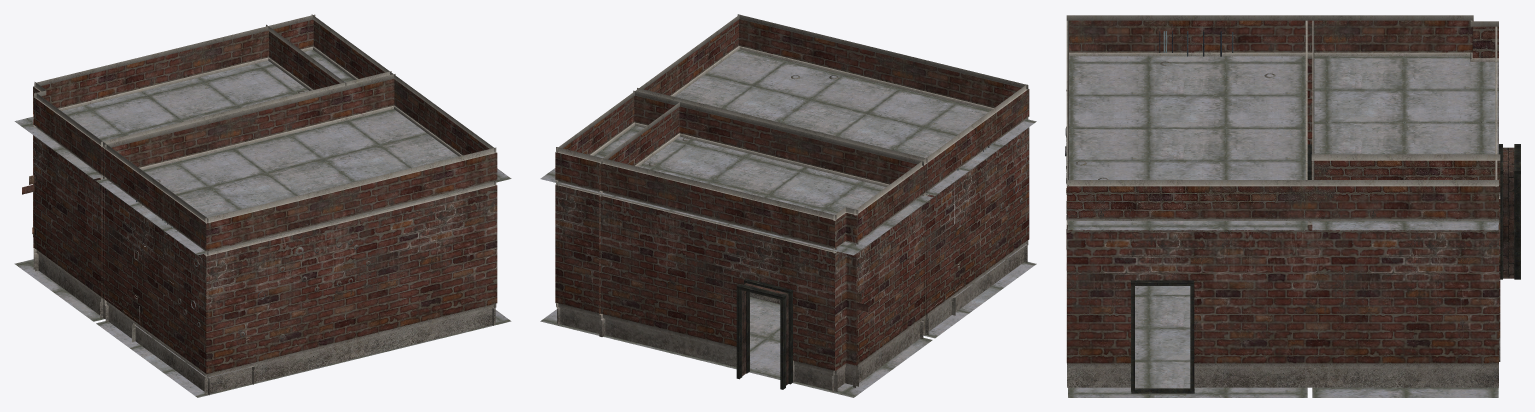
The model's file is st4_212_0_terrain_00ms.fbx.
The picture shows the model from 3 angles, left to right: view 1: azimuth 30°, elevation 25°; view 2: azimuth 150°, elevation 25°; view 3: azimuth 270°, elevation 25°; orthographic projection. The views are drawn at different scales.
Visible parts, largest first — view 1: LOD_1_Group_0_Sub_3__st2_policeHallWall03, LOD_1_Group_0_Sub_5__st2_police1fLeftFloor04, LOD_1_Group_0_Sub_1__st2_police2fRightWall01, LOD_1_Group_0_Sub_4__st2_police1fLeftPipeline01; view 2: LOD_1_Group_0_Sub_3__st2_policeHallWall03, LOD_1_Group_0_Sub_5__st2_police1fLeftFloor04, LOD_1_Group_0_Sub_1__st2_police2fRightWall01, LOD_1_Group_0_Sub_2__st1_townBuild01_Mat; view 3: LOD_1_Group_0_Sub_3__st2_policeHallWall03, LOD_1_Group_0_Sub_5__st2_police1fLeftFloor04, LOD_1_Group_0_Sub_1__st2_police2fRightWall01, LOD_1_Group_0_Sub_2__st1_townBuild01_Mat.
Part boxes in pixels (x1,y1,x2,y2): LOD_1_Group_0_Sub_3__st2_policeHallWall03: (22, 19, 497, 374); LOD_1_Group_0_Sub_5__st2_police1fLeftFloor04: (14, 50, 511, 397); LOD_1_Group_0_Sub_1__st2_police2fRightWall01: (33, 14, 496, 395); LOD_1_Group_0_Sub_4__st2_police1fLeftPipeline01: (155, 91, 370, 338); LOD_1_Group_0_Sub_3__st2_policeHallWall03: (555, 19, 1029, 370); LOD_1_Group_0_Sub_5__st2_police1fLeftFloor04: (540, 49, 1036, 397); LOD_1_Group_0_Sub_1__st2_police2fRightWall01: (555, 14, 1028, 392); LOD_1_Group_0_Sub_2__st1_townBuild01_Mat: (736, 278, 792, 389); LOD_1_Group_0_Sub_3__st2_policeHallWall03: (1066, 20, 1500, 363); LOD_1_Group_0_Sub_5__st2_police1fLeftFloor04: (1068, 56, 1498, 397); LOD_1_Group_0_Sub_1__st2_police2fRightWall01: (1066, 15, 1500, 387); LOD_1_Group_0_Sub_2__st1_townBuild01_Mat: (1131, 144, 1520, 393).
Bounding box in the file's own units: 7.78 × 4.21 × 8.23.
